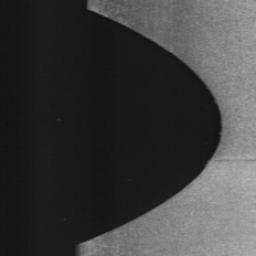Crescent gap: (80, 9, 222, 244)
